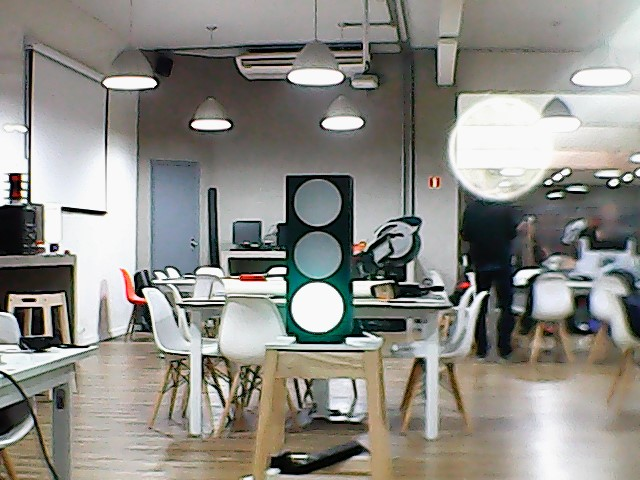verde: (283, 169, 357, 346)
